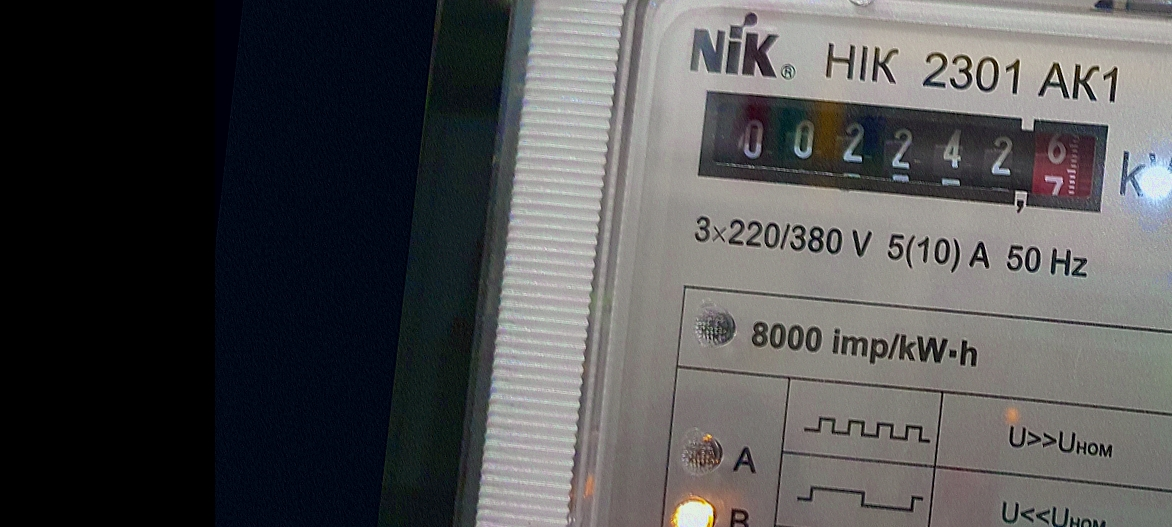0: (788, 115, 818, 160), (839, 119, 868, 164), (739, 115, 766, 161)
2: (986, 132, 1016, 178), (888, 125, 916, 171)
4: (938, 125, 966, 170)
6: (1043, 130, 1070, 166)
7: (1040, 172, 1065, 197)
screen: (685, 67, 1127, 238)
